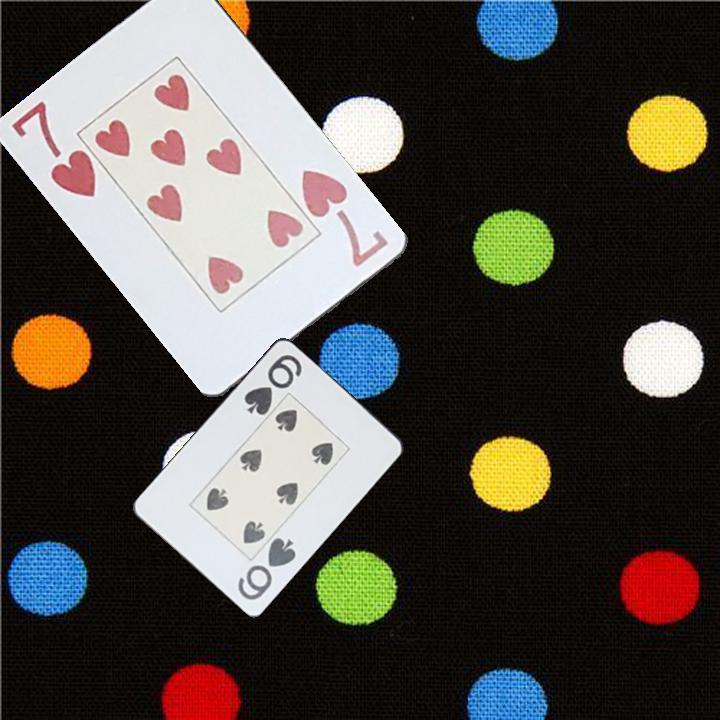6s: (234, 533, 299, 603), (240, 350, 305, 418)
7h: (298, 166, 392, 270), (8, 97, 100, 201)
